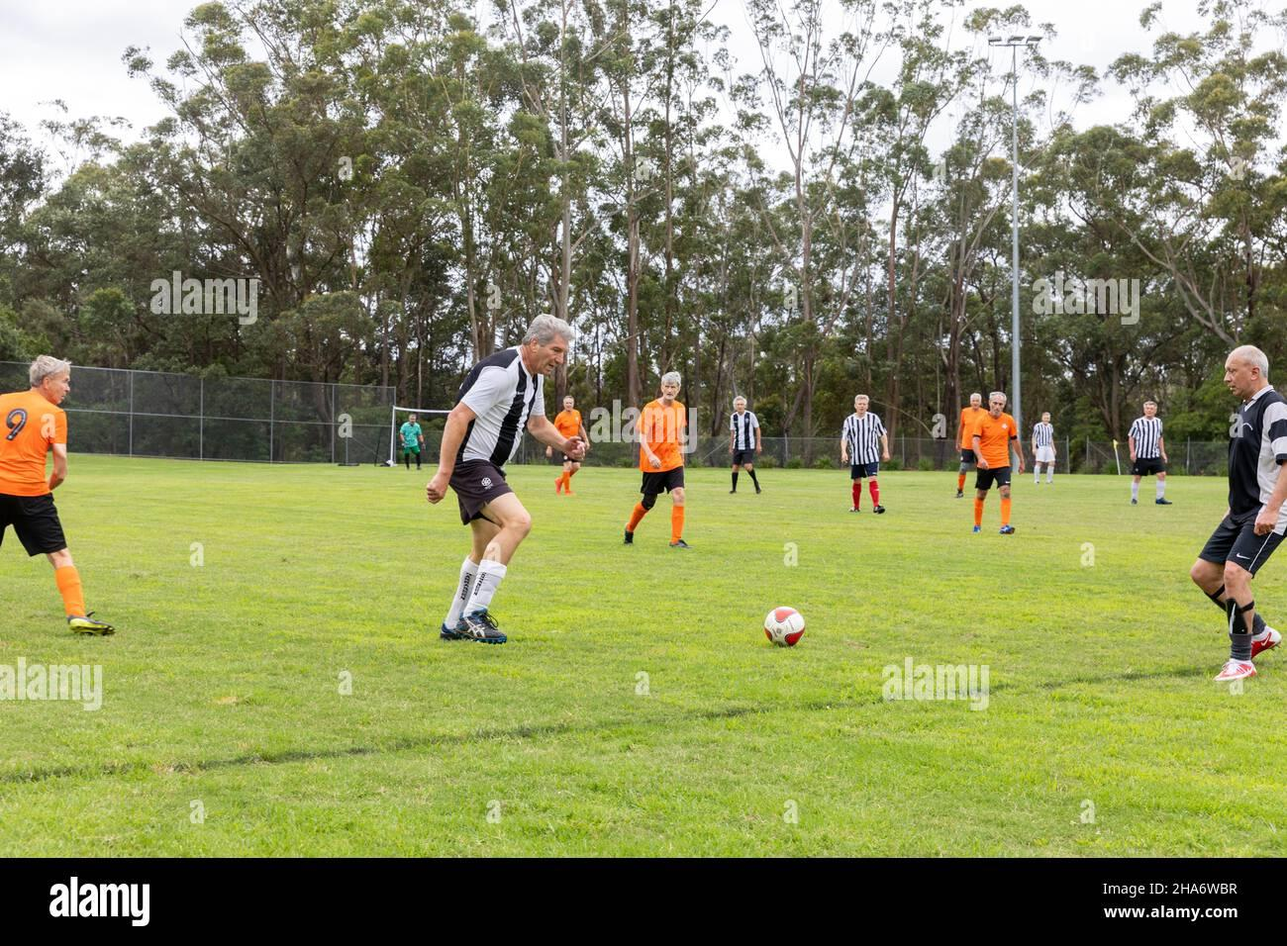ballon_football: (764, 606, 805, 647)
